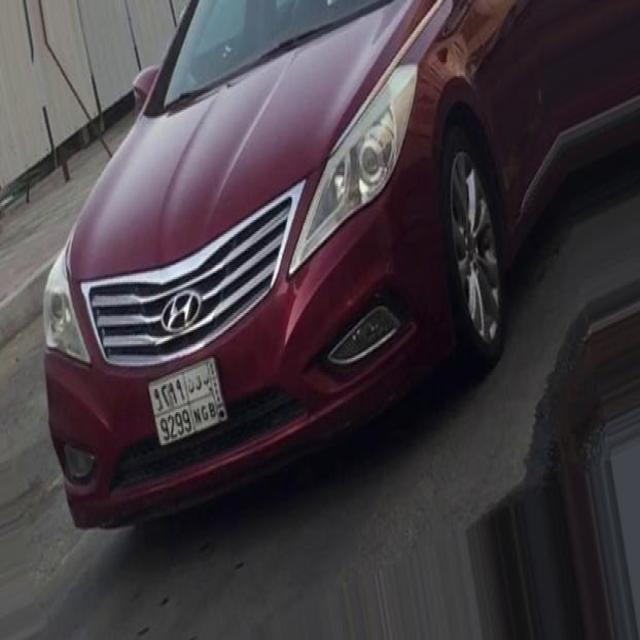Car-plate: (140, 344, 239, 459)
